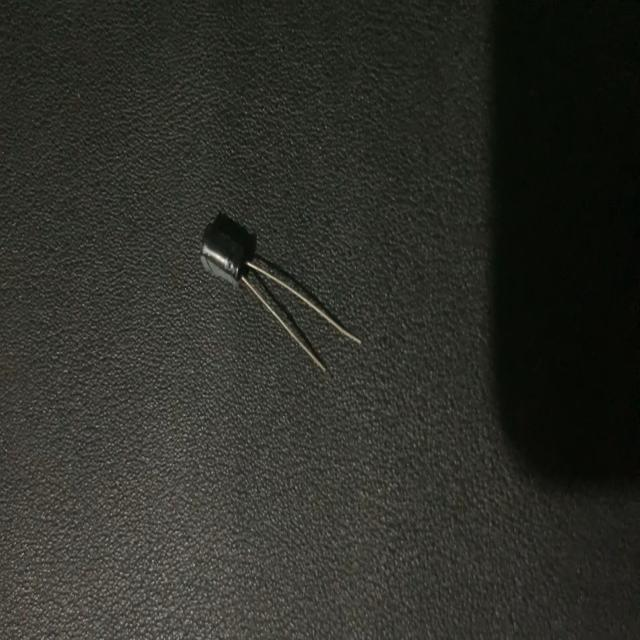capacitor: (198, 226, 362, 372)
